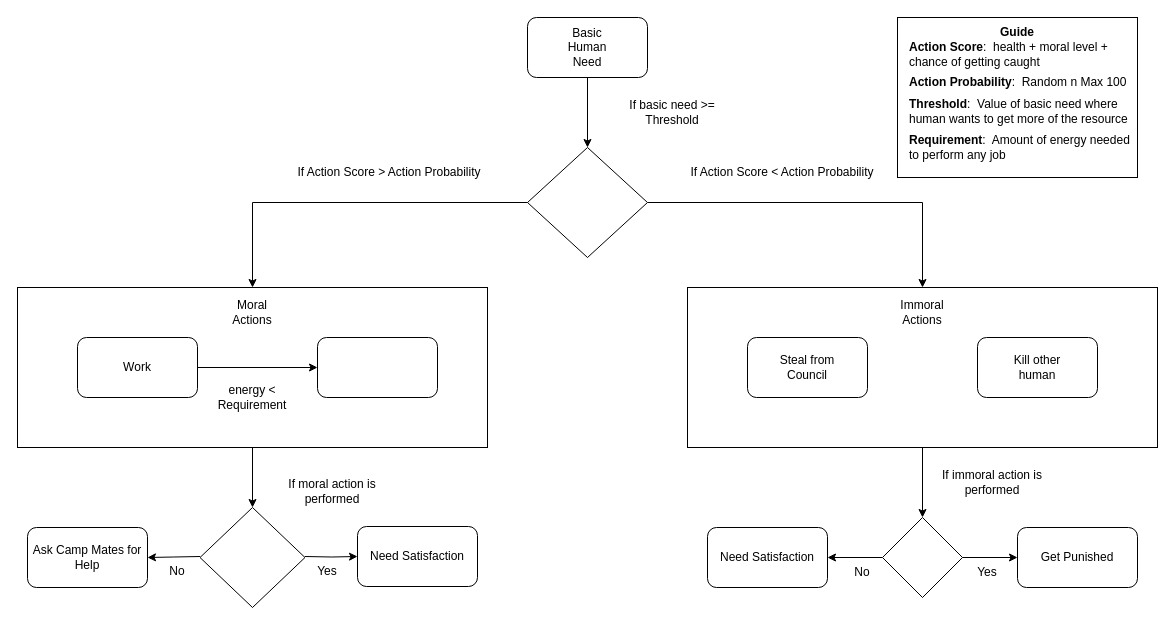
The diagram is 1175 pixels wide and 625 high, and some of its shapes have lost their labels. The shapes that lost their labels are listed below. From the top down, each one's centre as x and y in pixels, then its label:
the point at 587,202: Calculate Action Probability and Score
the point at 377,367: Access Backpack
the point at 252,557: Action Yielded Resource
the point at 922,557: Check if caught
